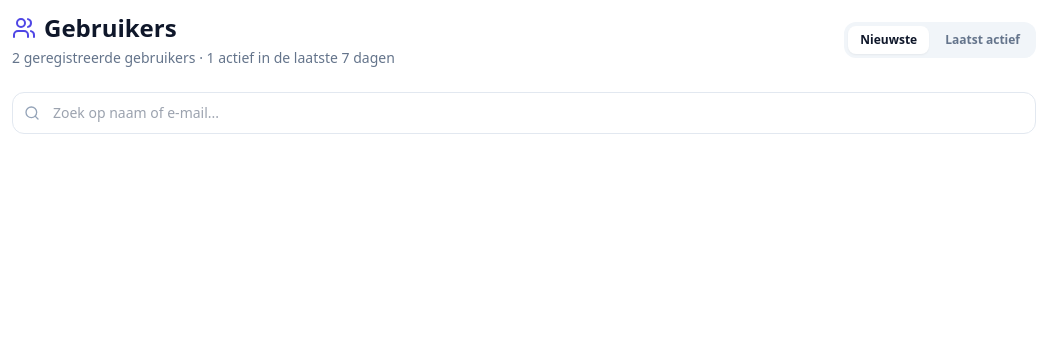
Test case: AdminUsers › sorts never-seen accounts last when sorting by last activity
The image size is (1048, 363).
What coordinates should you click on to do the following:
click the button "Laatst actief"
I would click on:
 (983, 40)
Its box is [933, 26, 1032, 54].
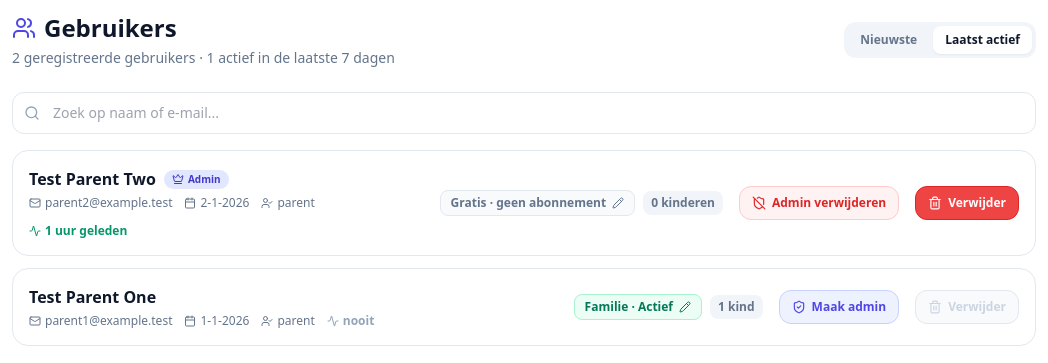
Check: the headings read "Test Parent Two", "Test Parent One", in this order, box [29, 167, 156, 191]; [29, 285, 156, 309]
